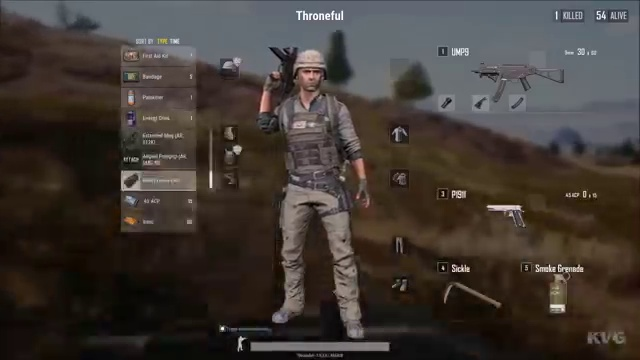Player: (253, 43, 374, 321)
